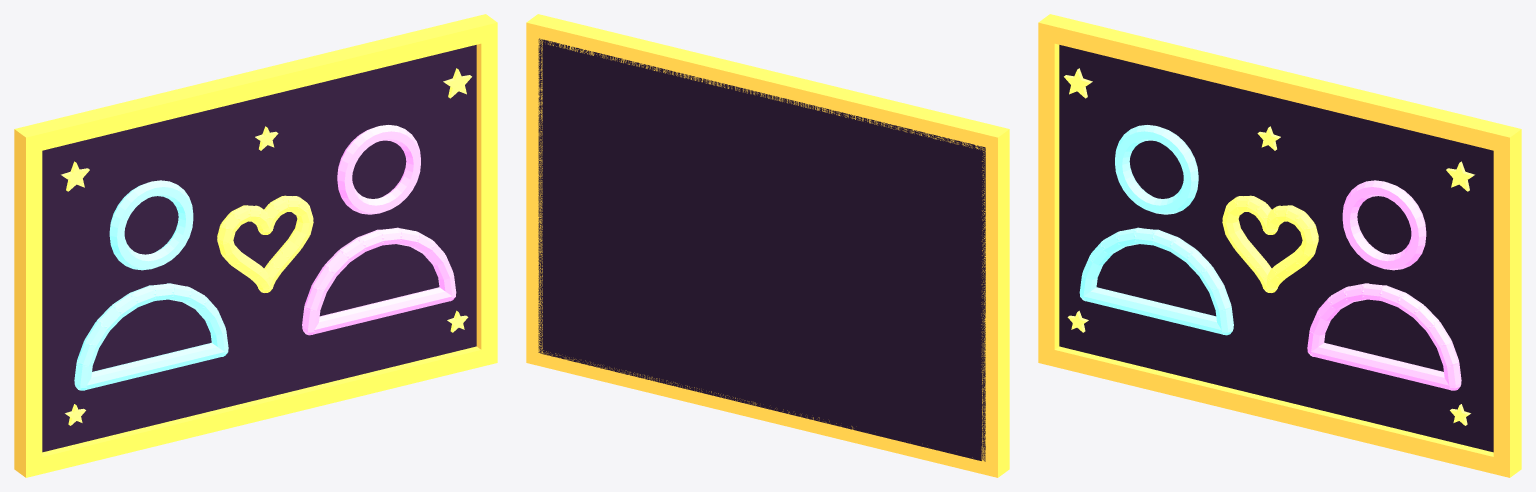
File: referral_neon.glb
3 renders of one model, left to right at view 1: azimuth 30°, elevation 25°; view 2: azimuth 150°, elevation 25°; view 3: azimuth 330°, elevation 25°, orthographic.
Parts seen in each view (by area): view 1: referral_neon; view 2: referral_neon; view 3: referral_neon.
Boxes of the visible parts, x1=… form: referral_neon: x1=14, y1=14, x2=497, y2=477; referral_neon: x1=526, y1=14, x2=1009, y2=477; referral_neon: x1=1038, y1=14, x2=1521, y2=477.
Bounding box in the file's own units: 1.16 × 0.8 × 0.083.
